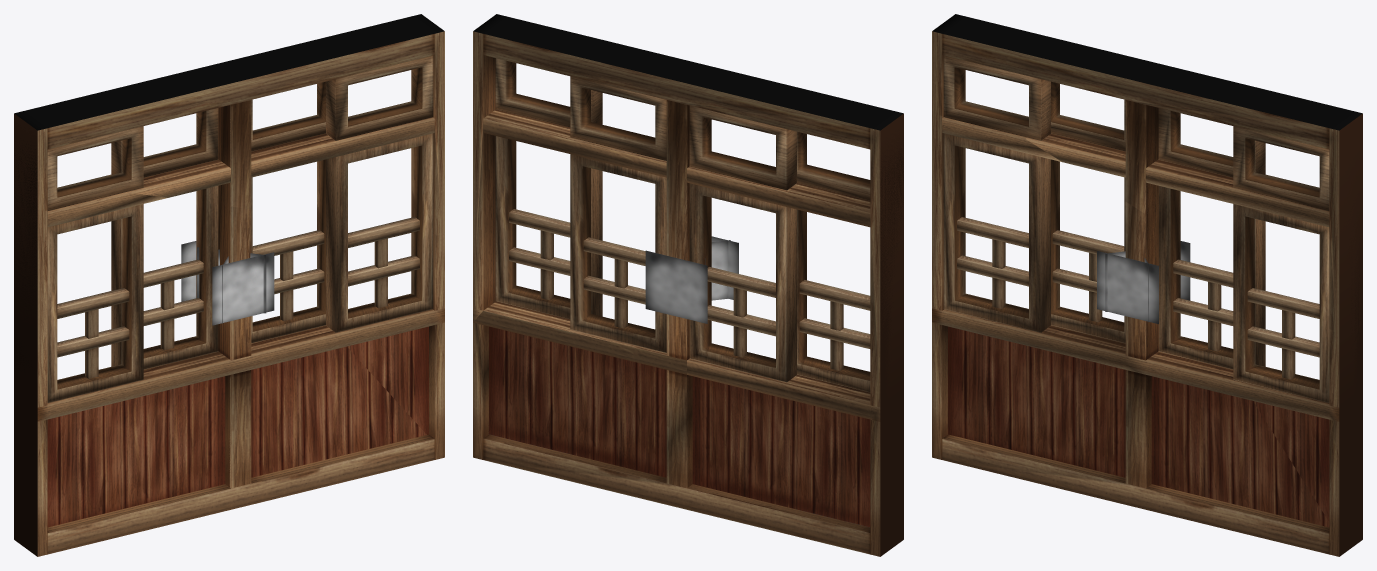
Rendered from a_SWGwall01B.glb.
The picture shows the model from 3 angles, left to right: view 1: azimuth 30°, elevation 25°; view 2: azimuth 150°, elevation 25°; view 3: azimuth 330°, elevation 25°; orthographic projection.
Parts seen in each view (by area): view 1: a_SWGwall01B; view 2: a_SWGwall01B; view 3: a_SWGwall01B.
Boxes of the visible parts, x1,y1,x2,y2 form: a_SWGwall01B: (14, 14, 444, 556); a_SWGwall01B: (473, 14, 903, 556); a_SWGwall01B: (932, 14, 1362, 556).
Size of the model in its own units: 3 by 3 by 0.409.
Materials: 4 (4 with a texture image).
